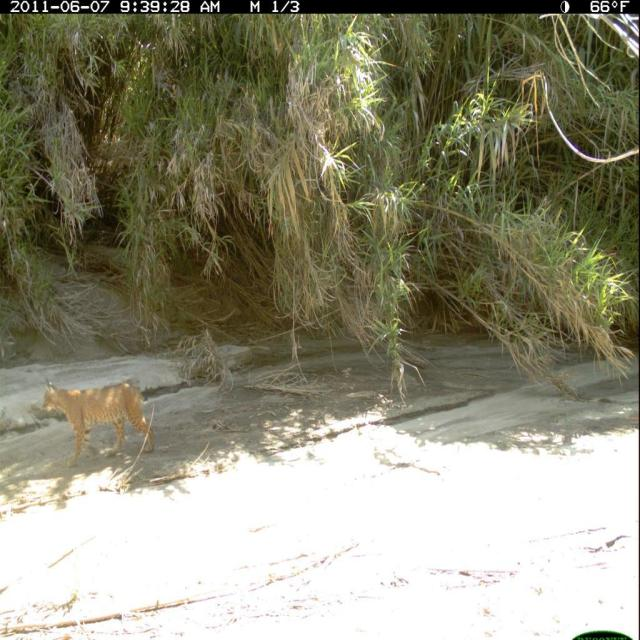bobcat: (39, 376, 159, 467)
